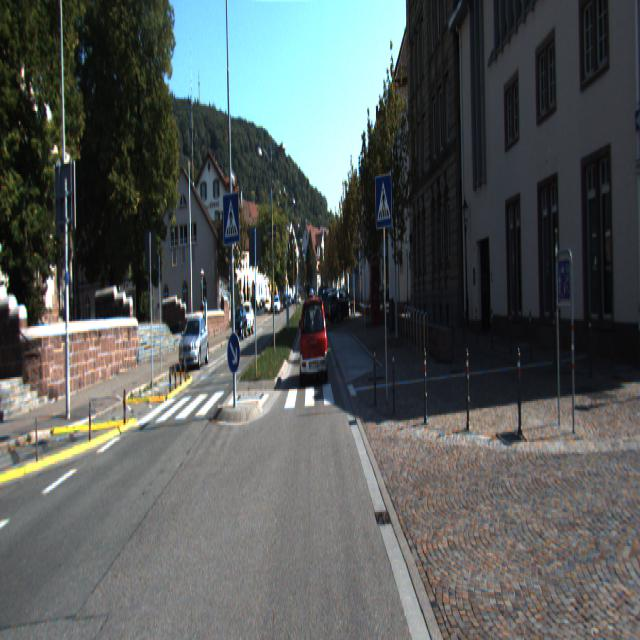Car: (300, 296, 329, 385), (178, 317, 211, 368), (329, 288, 352, 322), (232, 308, 248, 341), (239, 305, 254, 337)
